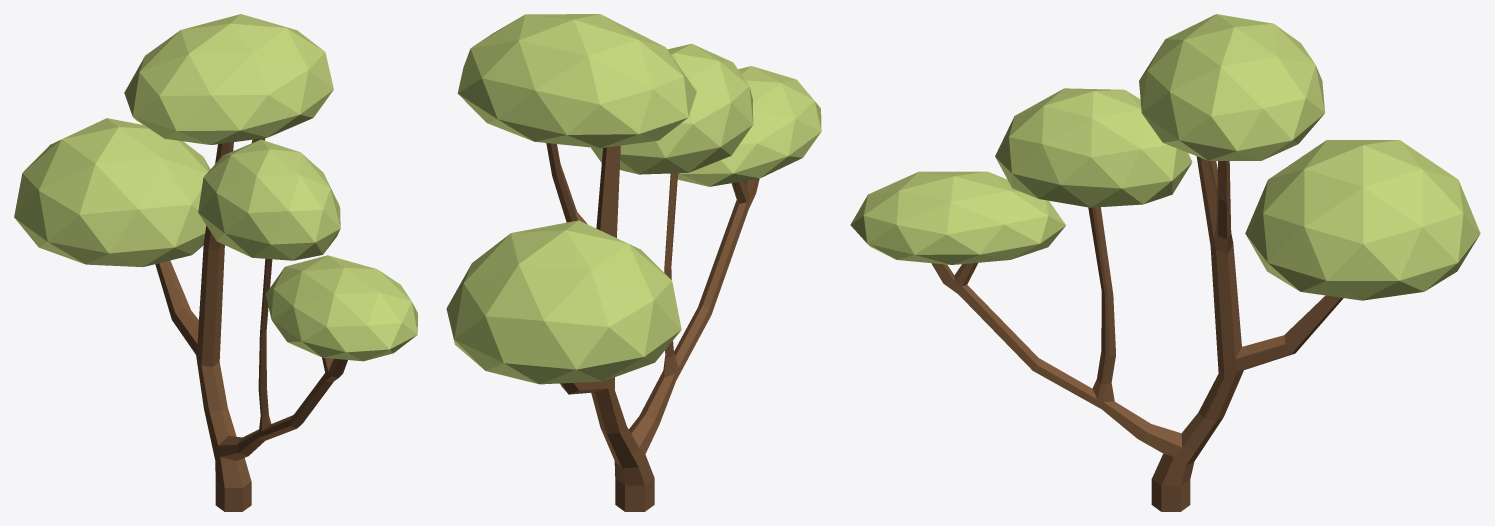
The model's file is Tree4.gltf.
3 views of the same model, side by side, from view 1: azimuth 30°, elevation 25°; view 2: azimuth 150°, elevation 25°; view 3: azimuth 270°, elevation 25° (orthographic). The views are drawn at different scales.
Visible parts, largest first — view 1: Tree4_Cylinder.003; view 2: Tree4_Cylinder.003; view 3: Tree4_Cylinder.003.
Part boxes in pixels (<box>): Tree4_Cylinder.003: <box>14,14,417,511</box>; Tree4_Cylinder.003: <box>446,14,821,511</box>; Tree4_Cylinder.003: <box>850,14,1480,511</box>.
Bounding box in the file's own units: 3.77 × 6.85 × 7.96.
